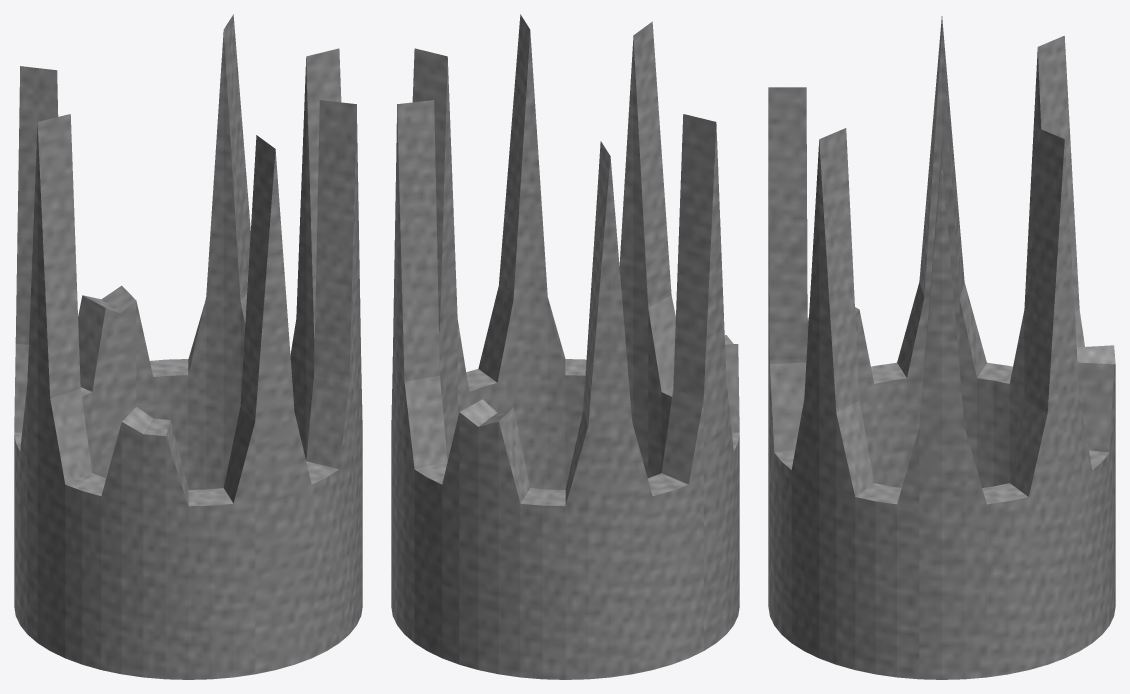
The model's file is broken-crown.glb.
3 renders of one model, left to right at view 1: azimuth 30°, elevation 25°; view 2: azimuth 150°, elevation 25°; view 3: azimuth 270°, elevation 25°, orthographic.
Parts seen in each view (by area): view 1: broken-crown; view 2: broken-crown; view 3: broken-crown.
Part boxes in pixels (x1,y1,x2,y2): broken-crown: (14, 14, 362, 679); broken-crown: (391, 14, 739, 679); broken-crown: (768, 16, 1115, 679).
Size of the model in its own units: 1 by 1.65 by 1.
Materials: 1 (1 with a texture image).
